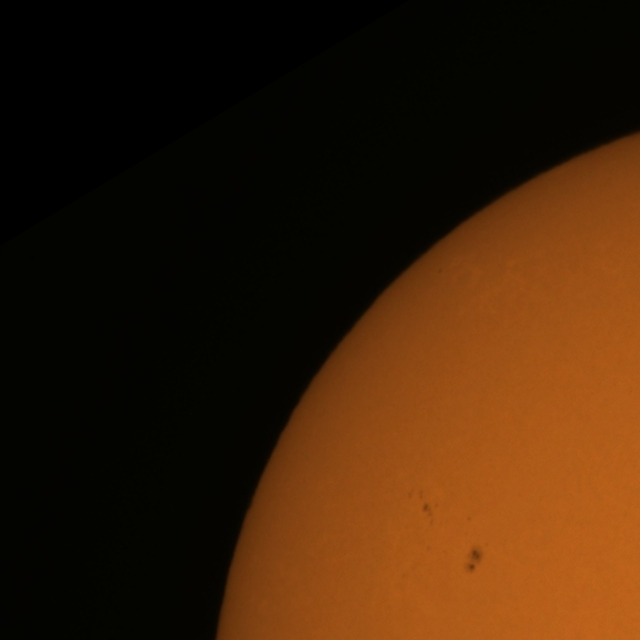sunspot: (406, 489, 436, 516), (463, 544, 487, 575), (419, 494, 440, 520)
